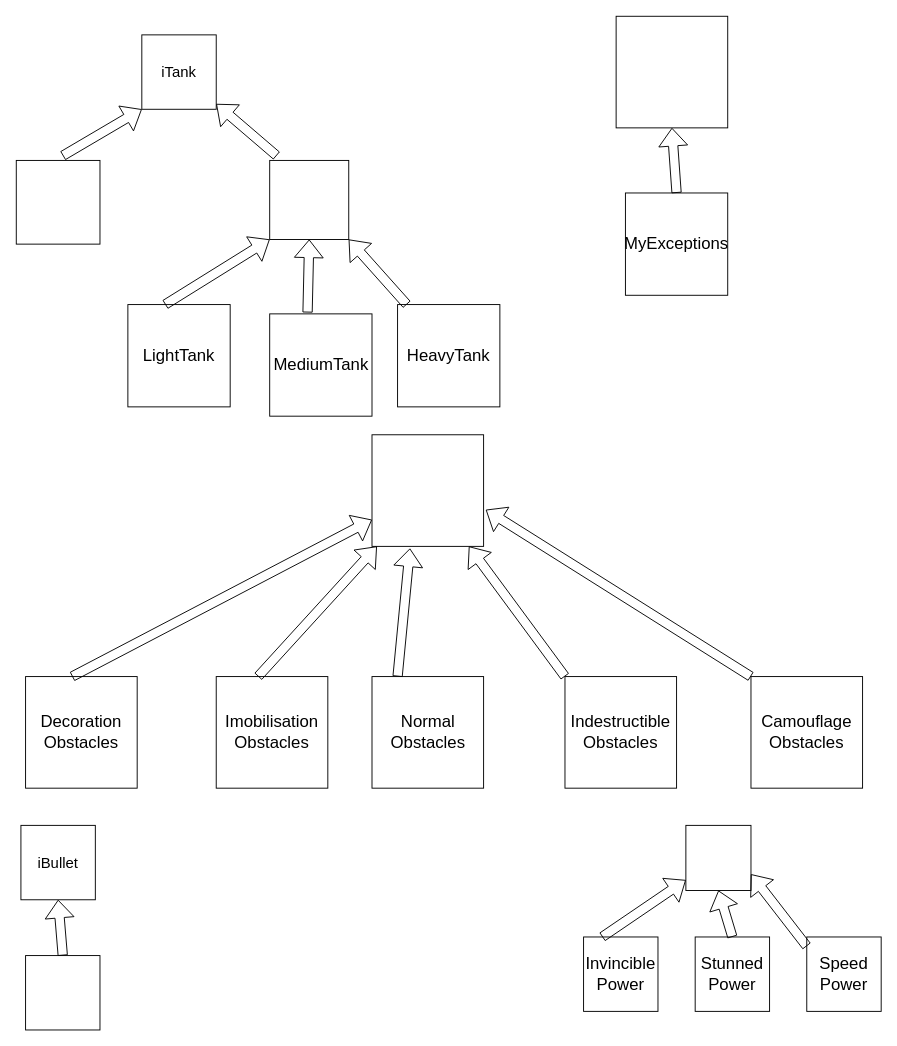
Image size: 897x1046. Some labels were removed from this diagram. Here are the shapes that lost their labels. From the top down, the centre of each, then its label:
At (x=671, y=71): "iMyExceptions".
At (x=57, y=201): "PlayerTank".
At (x=309, y=199): "BotTank".
At (x=427, y=490): "IObstacles".
At (x=718, y=857): "iPower".
At (x=62, y=992): "Bullet".
